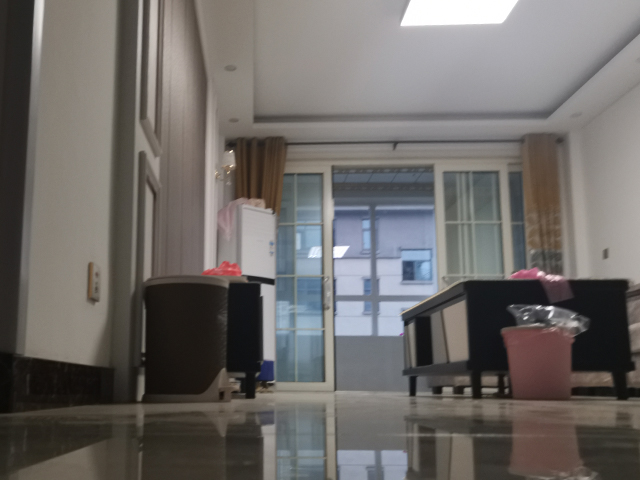curtain: (522, 127, 562, 276)
table: (399, 277, 640, 403)
trashcan: (139, 273, 240, 404), (498, 322, 578, 403)
